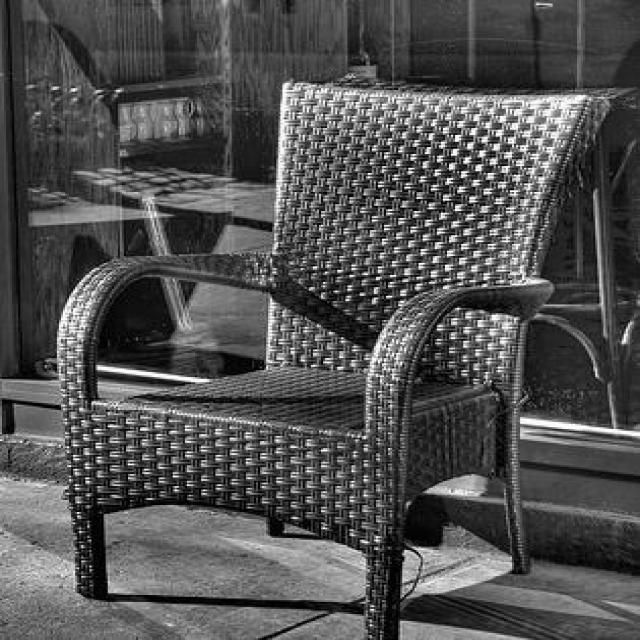chair: (68, 81, 606, 638)
